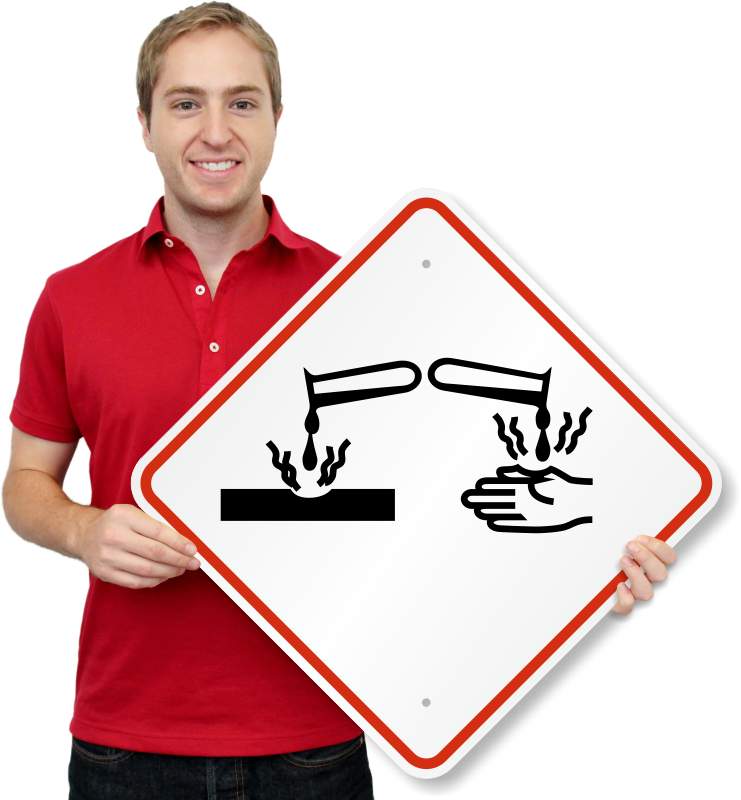Corrosive: (129, 188, 722, 781)
